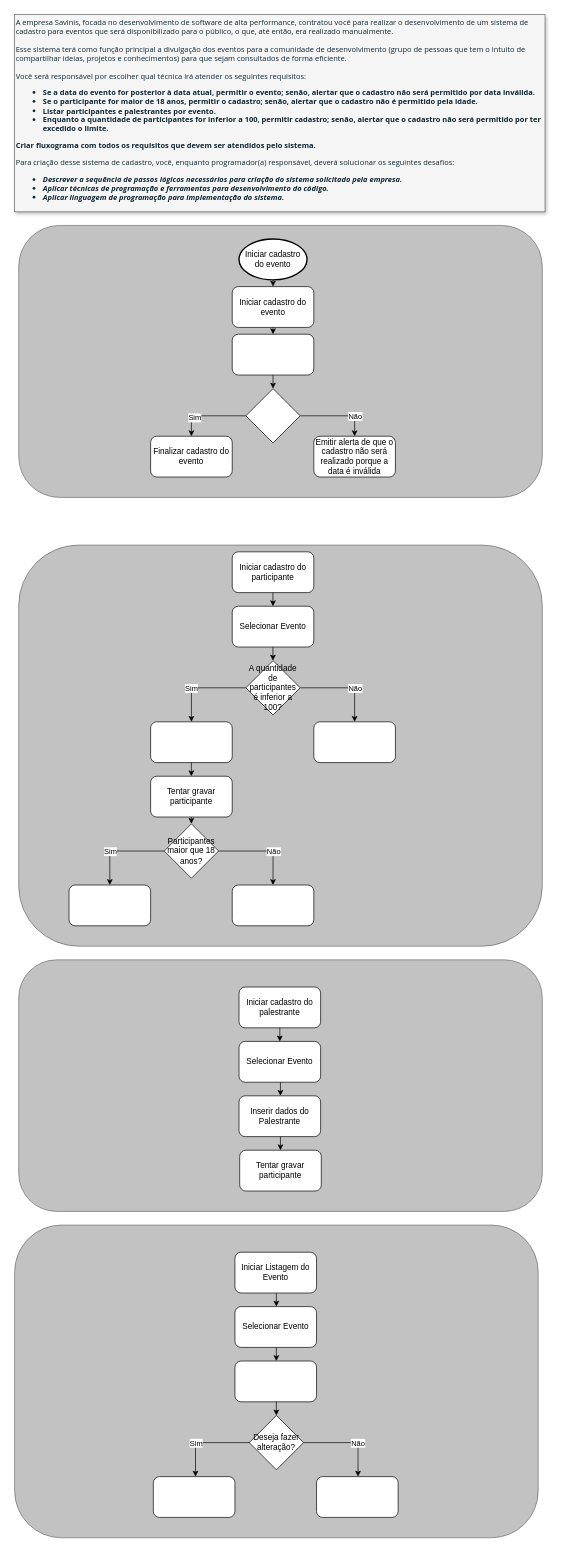
This 561x1550 diagram has some shape labels left out. The shapes that lost their labels are listed below. From the top down, each one's centre as x and y in pixels, then its label:
the point at 273,354: Tentar gravar evento
the point at 272,415: Data posterior à atual?
the point at 191,742: Inserir dados do Participante
the point at 354,742: Emitir alerta de que não será possível finalizar pois não há mais vagas
the point at 109,905: Finalizar cadastro do participantes
the point at 273,905: Emitir alerta de que não será possível finalizar pois a idade mínima é 18 anos
the point at 275,1381: Listar Palestrantes e Participantes
the point at 194,1496: Inserir, e excluir participantes e palestrantes
the point at 357,1496: Finalizar e voltar para a página inicial
